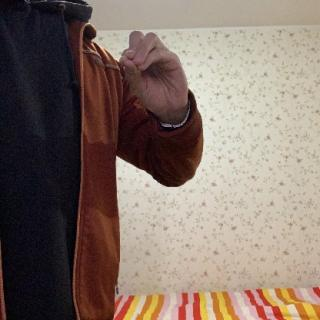HA: (116, 24, 196, 120)
